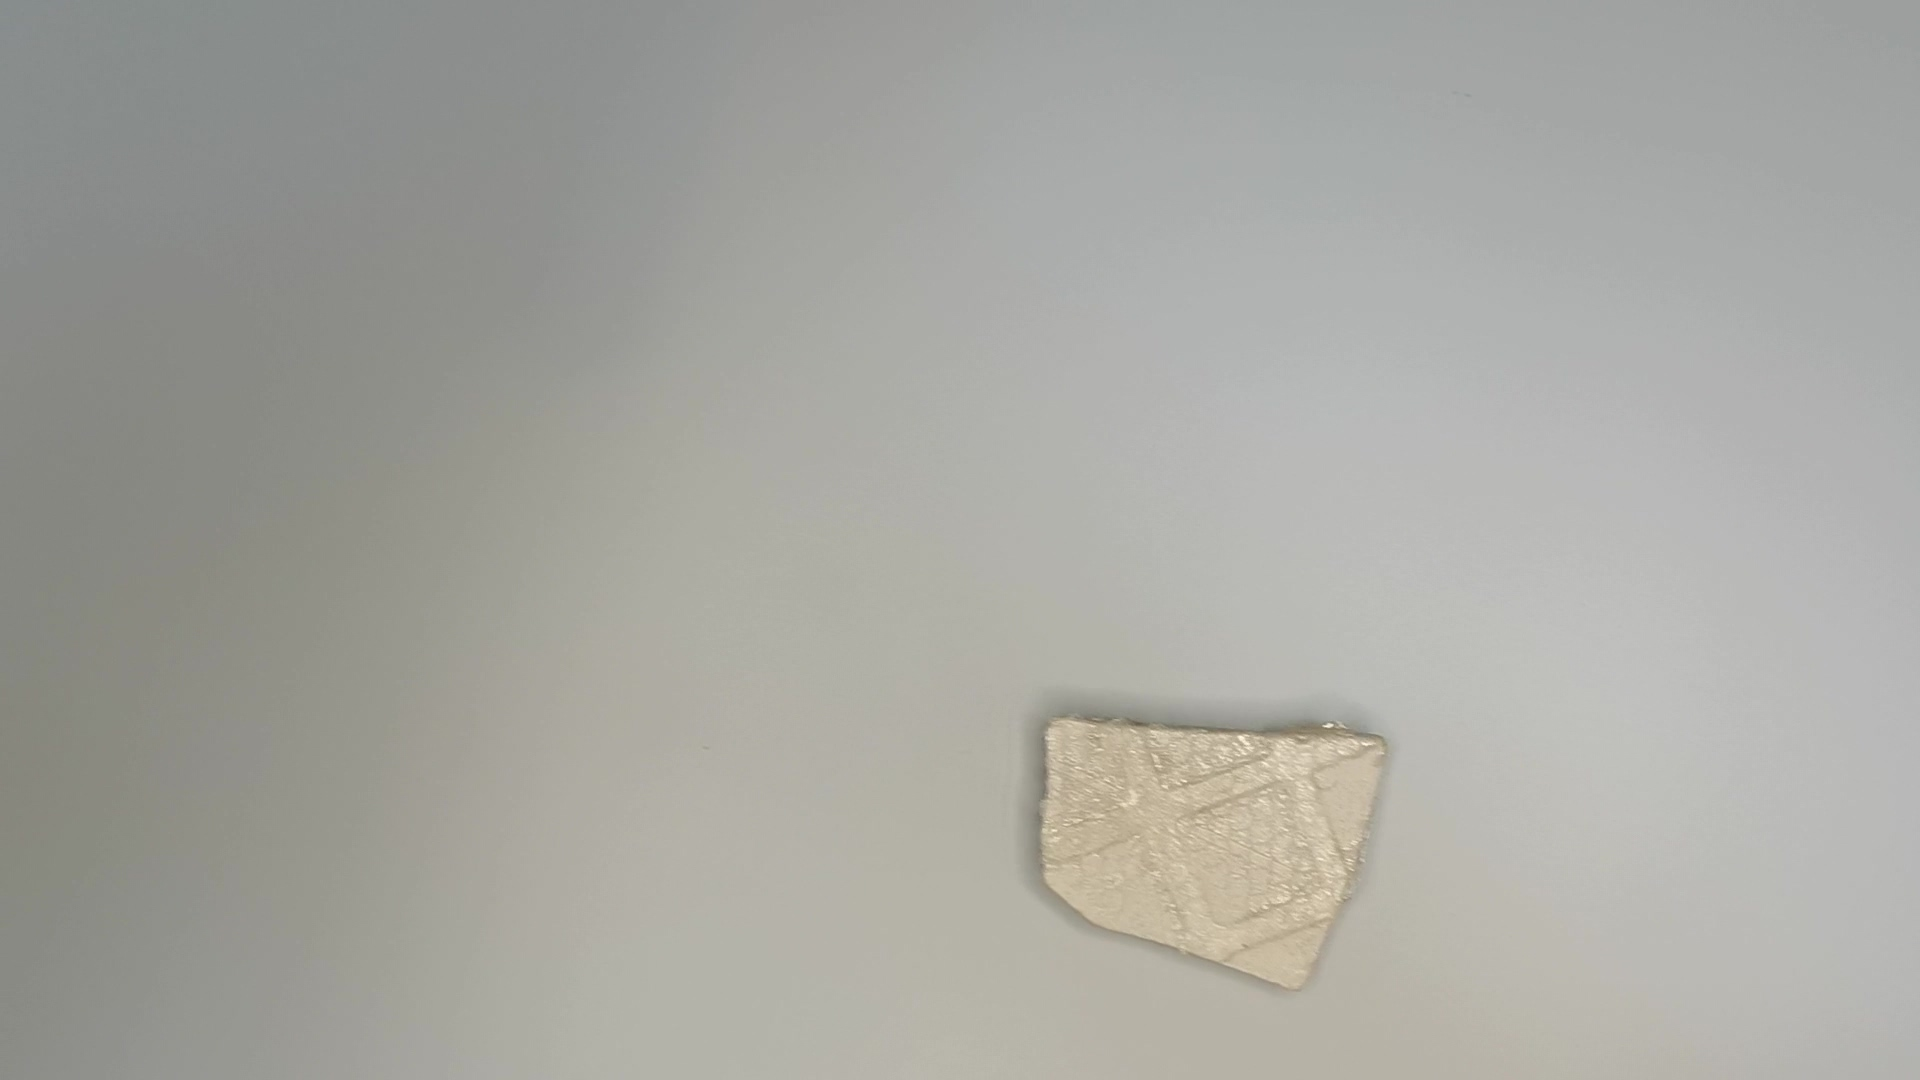ceramic: (1033, 705, 1396, 1004)
